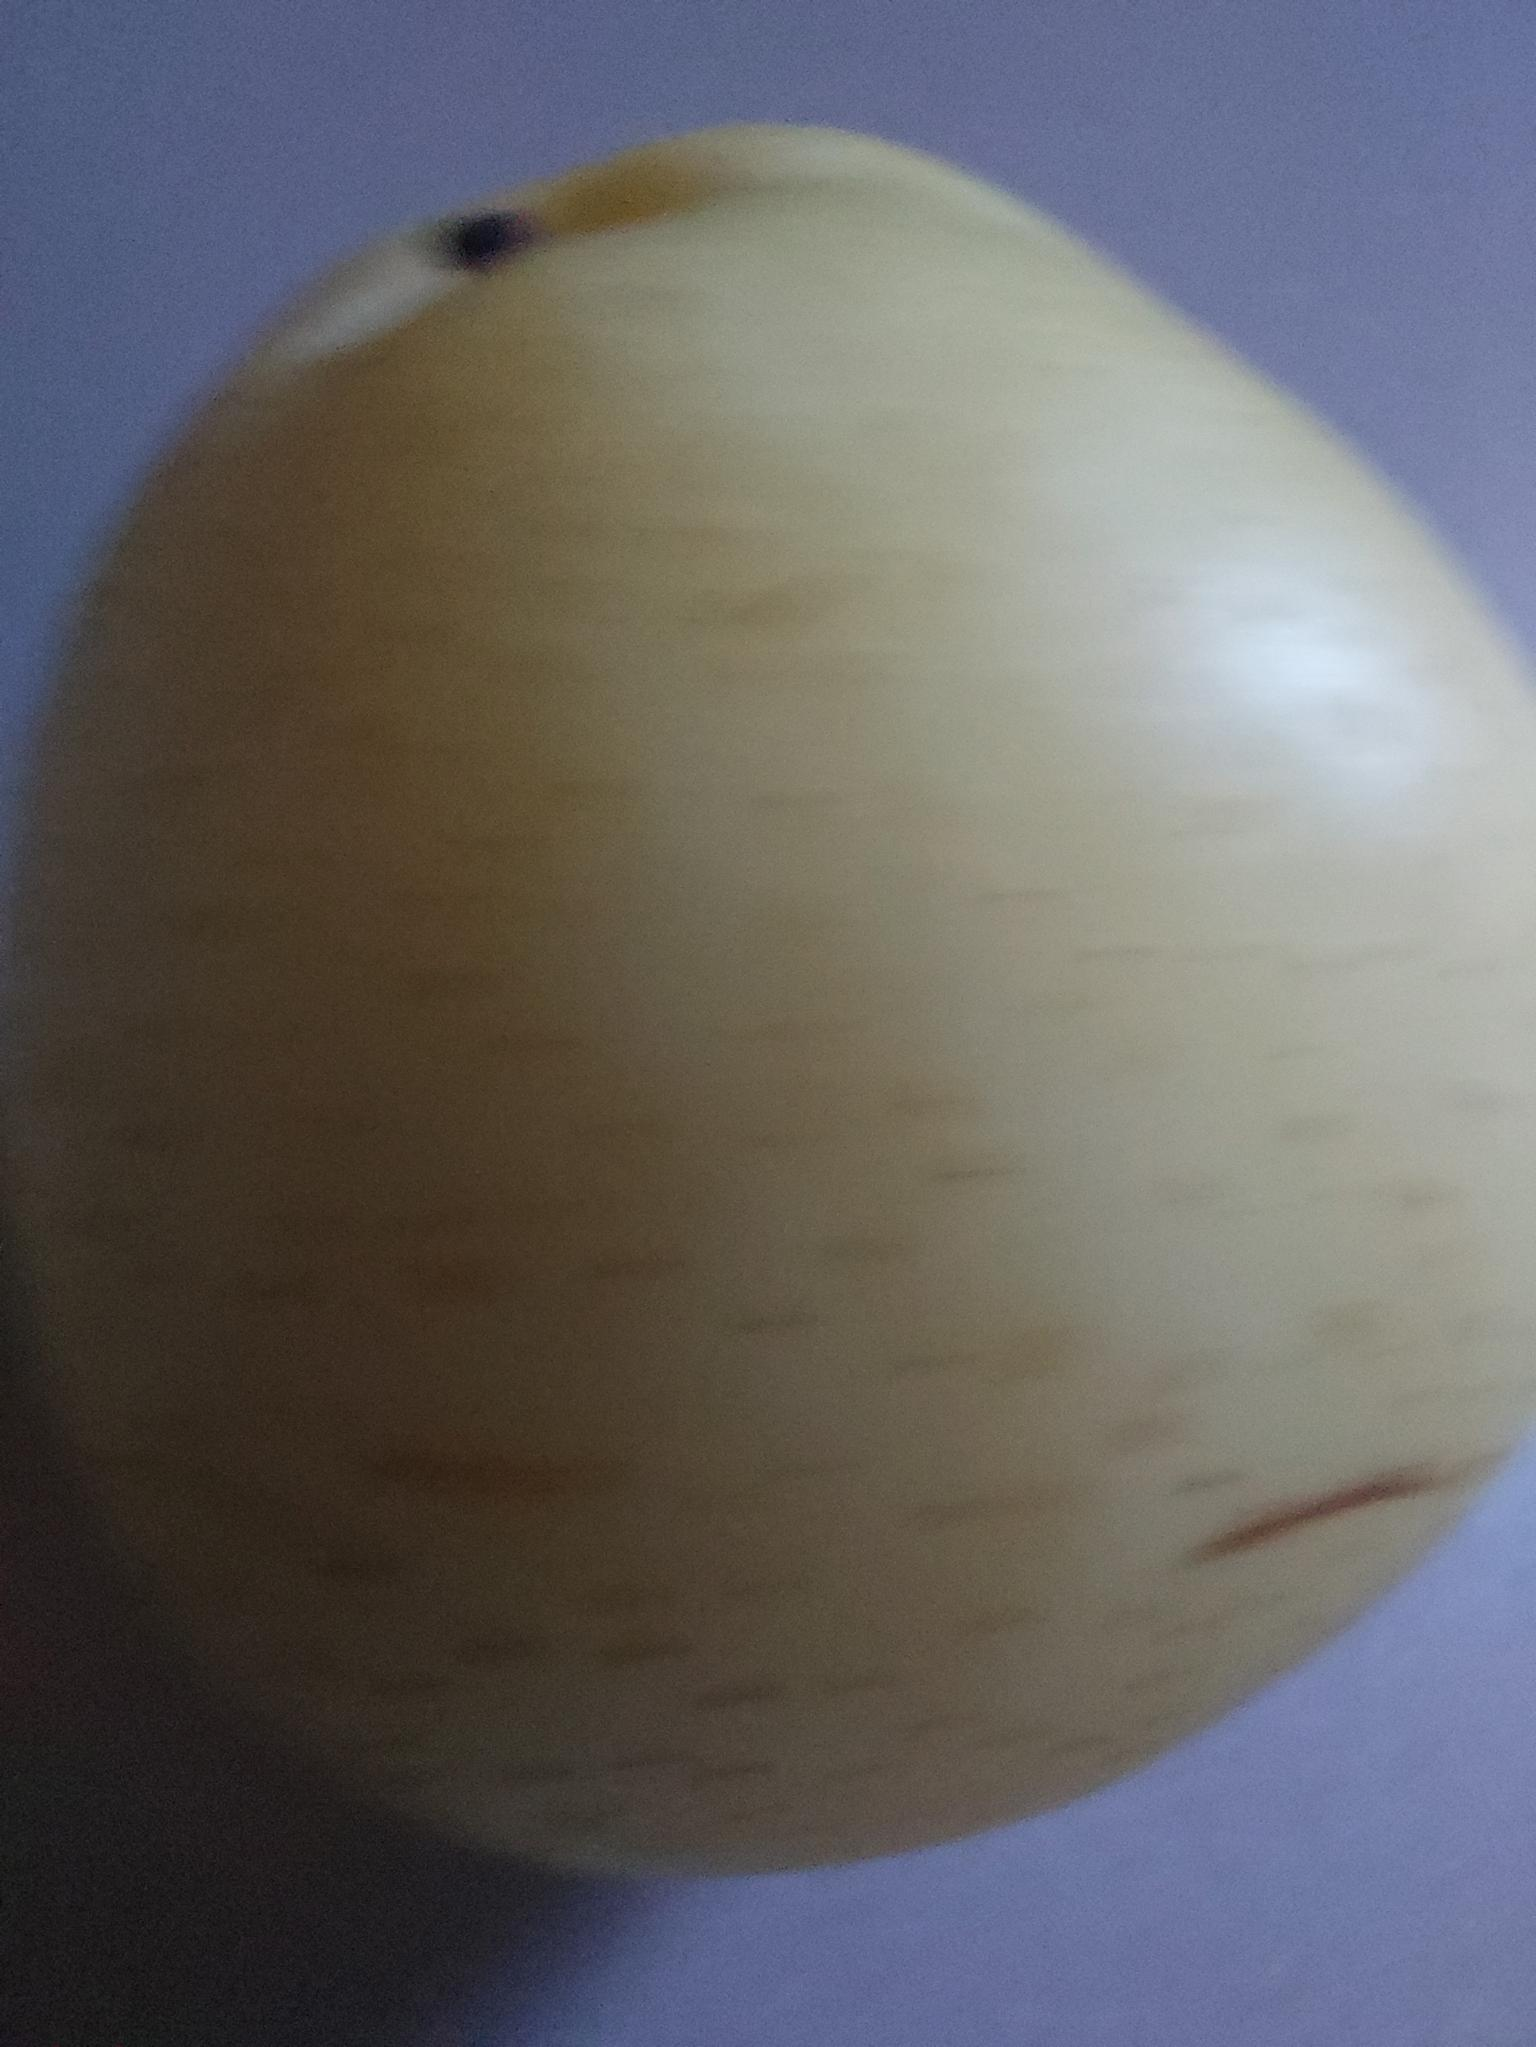Good Pear: (0, 119, 1536, 1873)
